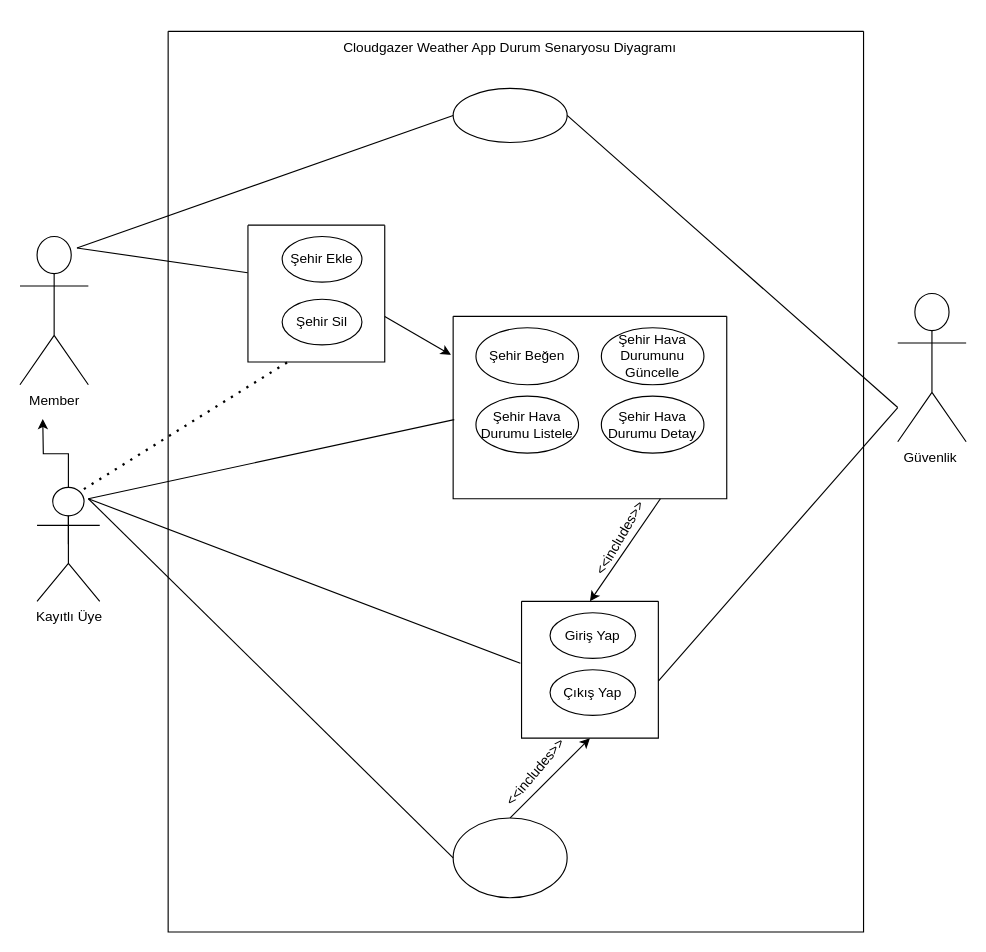
Image size: 986x952. Some labels were removed from this diagram. Each missing label, with the centre of its shape:
"Kullanıcı Geri Bildirimi" goes at (x=509, y=857).
"Üye ol" goes at (x=509, y=114).
